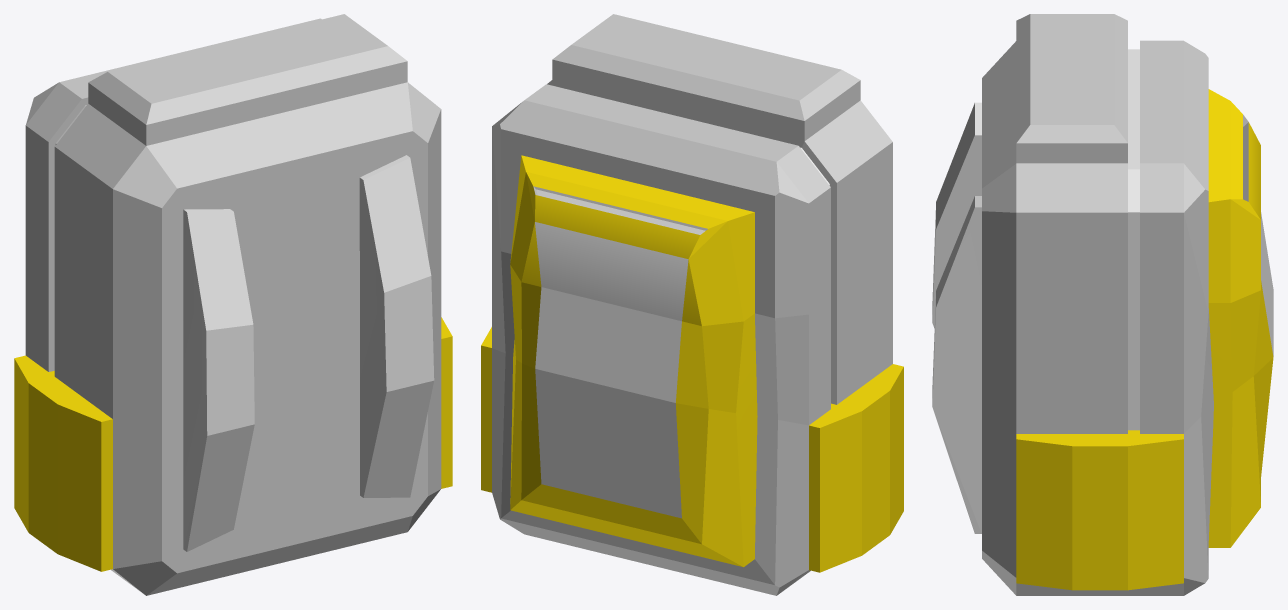
Rendered from backpack_a.fbx.
The picture shows the model from 3 angles, left to right: view 1: azimuth 30°, elevation 25°; view 2: azimuth 150°, elevation 25°; view 3: azimuth 270°, elevation 25°; orthographic projection. The views are drawn at different scales.
Parts seen in each view (by area): view 1: backpack_a; view 2: backpack_a; view 3: backpack_a.
Part boxes in pixels (box(x1,y1,x2,y2)): backpack_a: box(14, 14, 452, 595); backpack_a: box(481, 14, 903, 595); backpack_a: box(932, 14, 1273, 595).
Bounding box in the file's own units: 0.5796 × 0.7041 × 0.4678.
